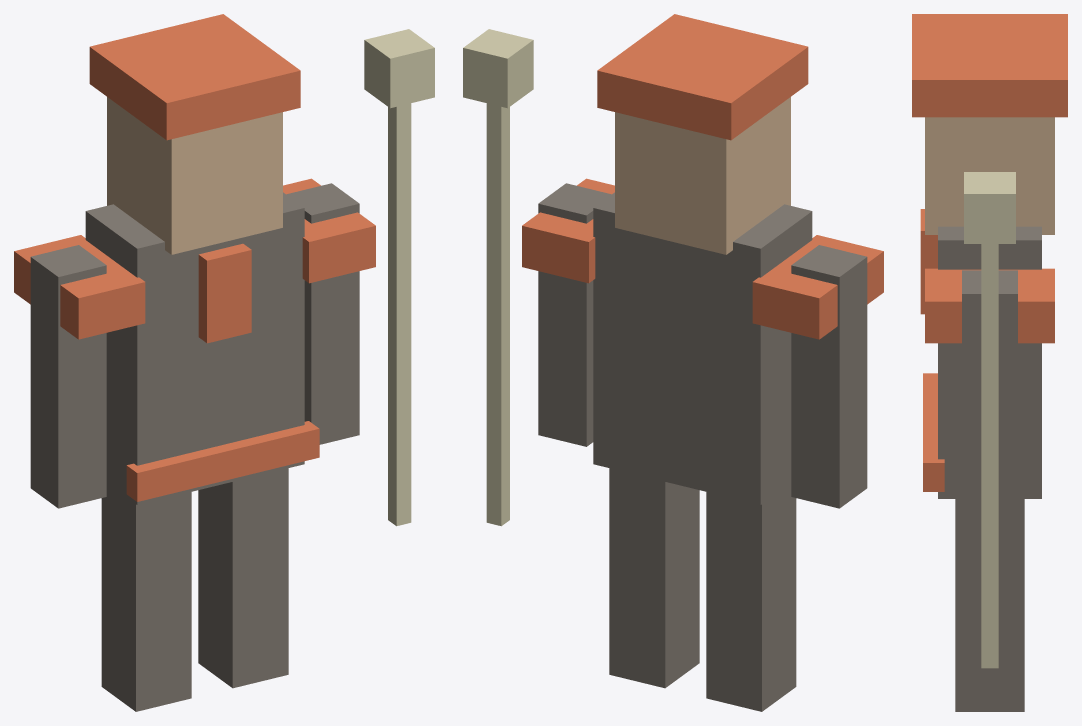
File: 09_sable_chromabell_smith_under_sonic.glb
3 views of the same model, side by side, from view 1: azimuth 30°, elevation 25°; view 2: azimuth 150°, elevation 25°; view 3: azimuth 270°, elevation 25° (orthographic).
Visible parts, largest first — view 1: Sable Chromabell, Smith under Sonic; view 2: Sable Chromabell, Smith under Sonic; view 3: Sable Chromabell, Smith under Sonic.
Boxes of the visible parts, x1,y1,x2,y2 form: Sable Chromabell, Smith under Sonic: (14,14,434,711); Sable Chromabell, Smith under Sonic: (463,14,883,711); Sable Chromabell, Smith under Sonic: (912,14,1067,711).
Size of the model in its own units: 1.06 by 1.66 by 0.3742.
